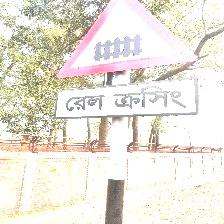Rail-crossing: (52, 2, 202, 121)
